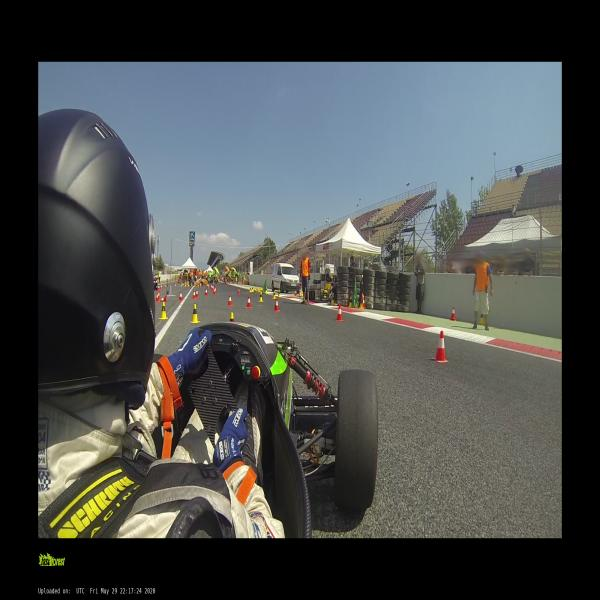orange_cone: (433, 331, 449, 363), (335, 304, 344, 321), (272, 297, 280, 311), (245, 295, 252, 308), (450, 307, 456, 319), (227, 294, 233, 306), (155, 291, 160, 303), (156, 290, 161, 301), (178, 291, 183, 301), (194, 290, 199, 298), (192, 290, 196, 299), (160, 295, 166, 301), (236, 288, 241, 294), (205, 288, 208, 296), (294, 290, 298, 296), (363, 298, 365, 308), (213, 288, 216, 294), (174, 283, 176, 289), (164, 284, 166, 290), (160, 285, 162, 289), (158, 285, 159, 292)
yellow_cone: (189, 303, 200, 324), (159, 302, 168, 319), (478, 310, 485, 325), (330, 294, 335, 306), (348, 296, 353, 307), (259, 292, 263, 302), (359, 298, 363, 308), (230, 312, 234, 322), (272, 291, 276, 299), (277, 289, 281, 297), (265, 287, 268, 294), (249, 286, 252, 292), (252, 286, 254, 292)
